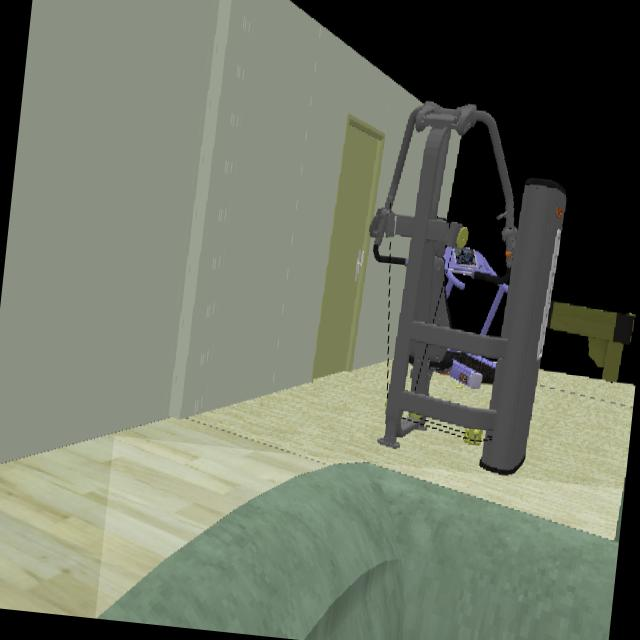sofa: (95, 461, 617, 640)
